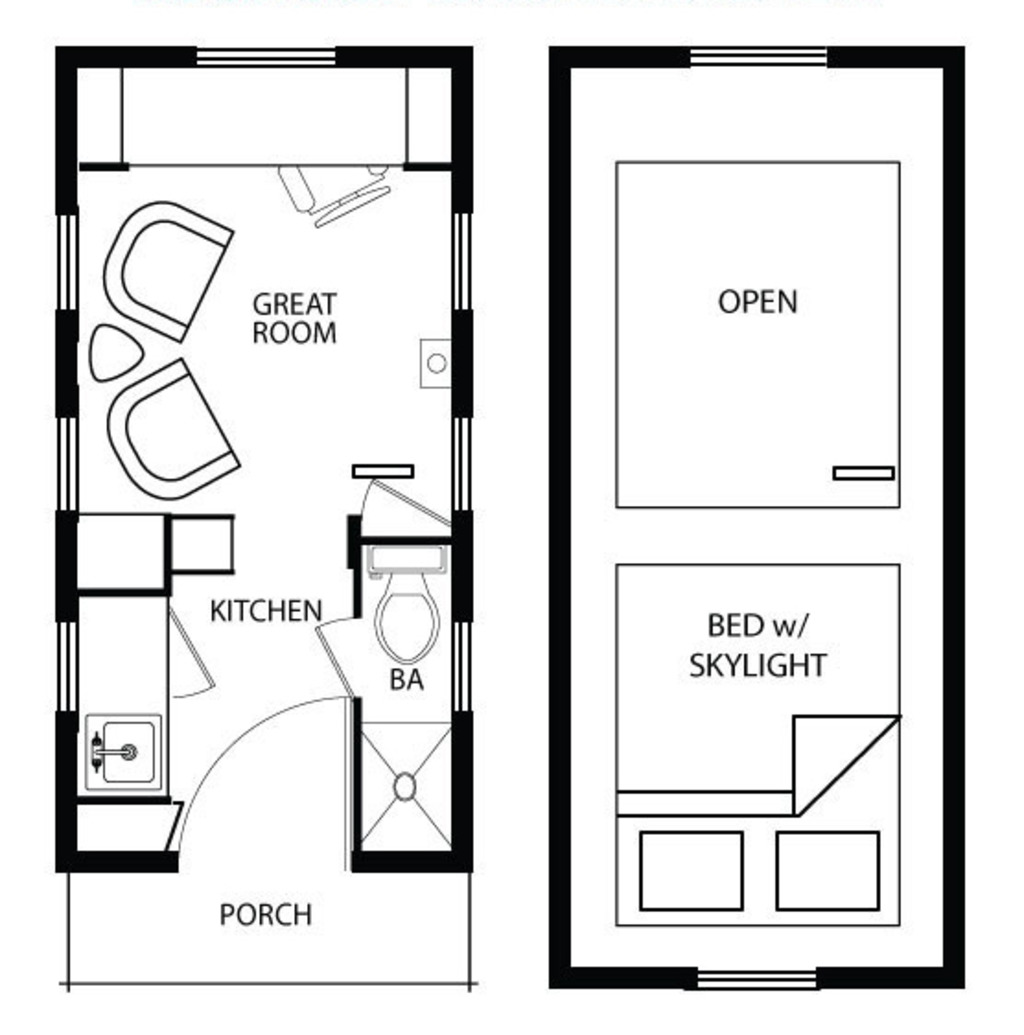bed: (611, 558, 913, 934)
door: (170, 692, 357, 869)
large_sink: (366, 539, 443, 663)
sink: (83, 708, 166, 803)
small_sofa: (100, 361, 242, 501), (104, 195, 226, 339)
windows: (192, 41, 342, 75), (682, 43, 828, 69), (48, 212, 84, 316), (50, 616, 86, 716), (691, 969, 824, 996), (445, 409, 477, 520), (53, 406, 82, 509), (445, 616, 474, 717), (448, 209, 475, 317)
